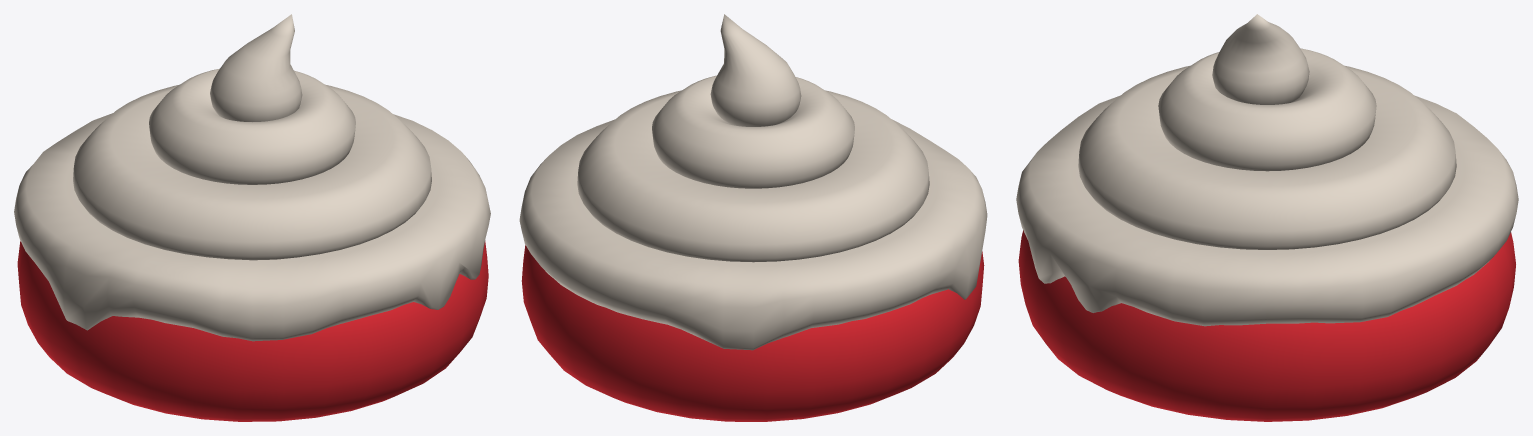
File: red_velvet.fbx
3 renders of one model, left to right at view 1: azimuth 30°, elevation 25°; view 2: azimuth 150°, elevation 25°; view 3: azimuth 270°, elevation 25°, orthographic. The views are drawn at different scales.
Visible parts, largest first — view 1: red velvet.001; view 2: red velvet.001; view 3: red velvet.001.
Part boxes in pixels (left/top/right/bottom): red velvet.001: left=14, top=14, right=490, bottom=421; red velvet.001: left=519, top=14, right=987, bottom=421; red velvet.001: left=1016, top=14, right=1518, bottom=421.
Size of the model in its own units: 266 by 203 by 266.
